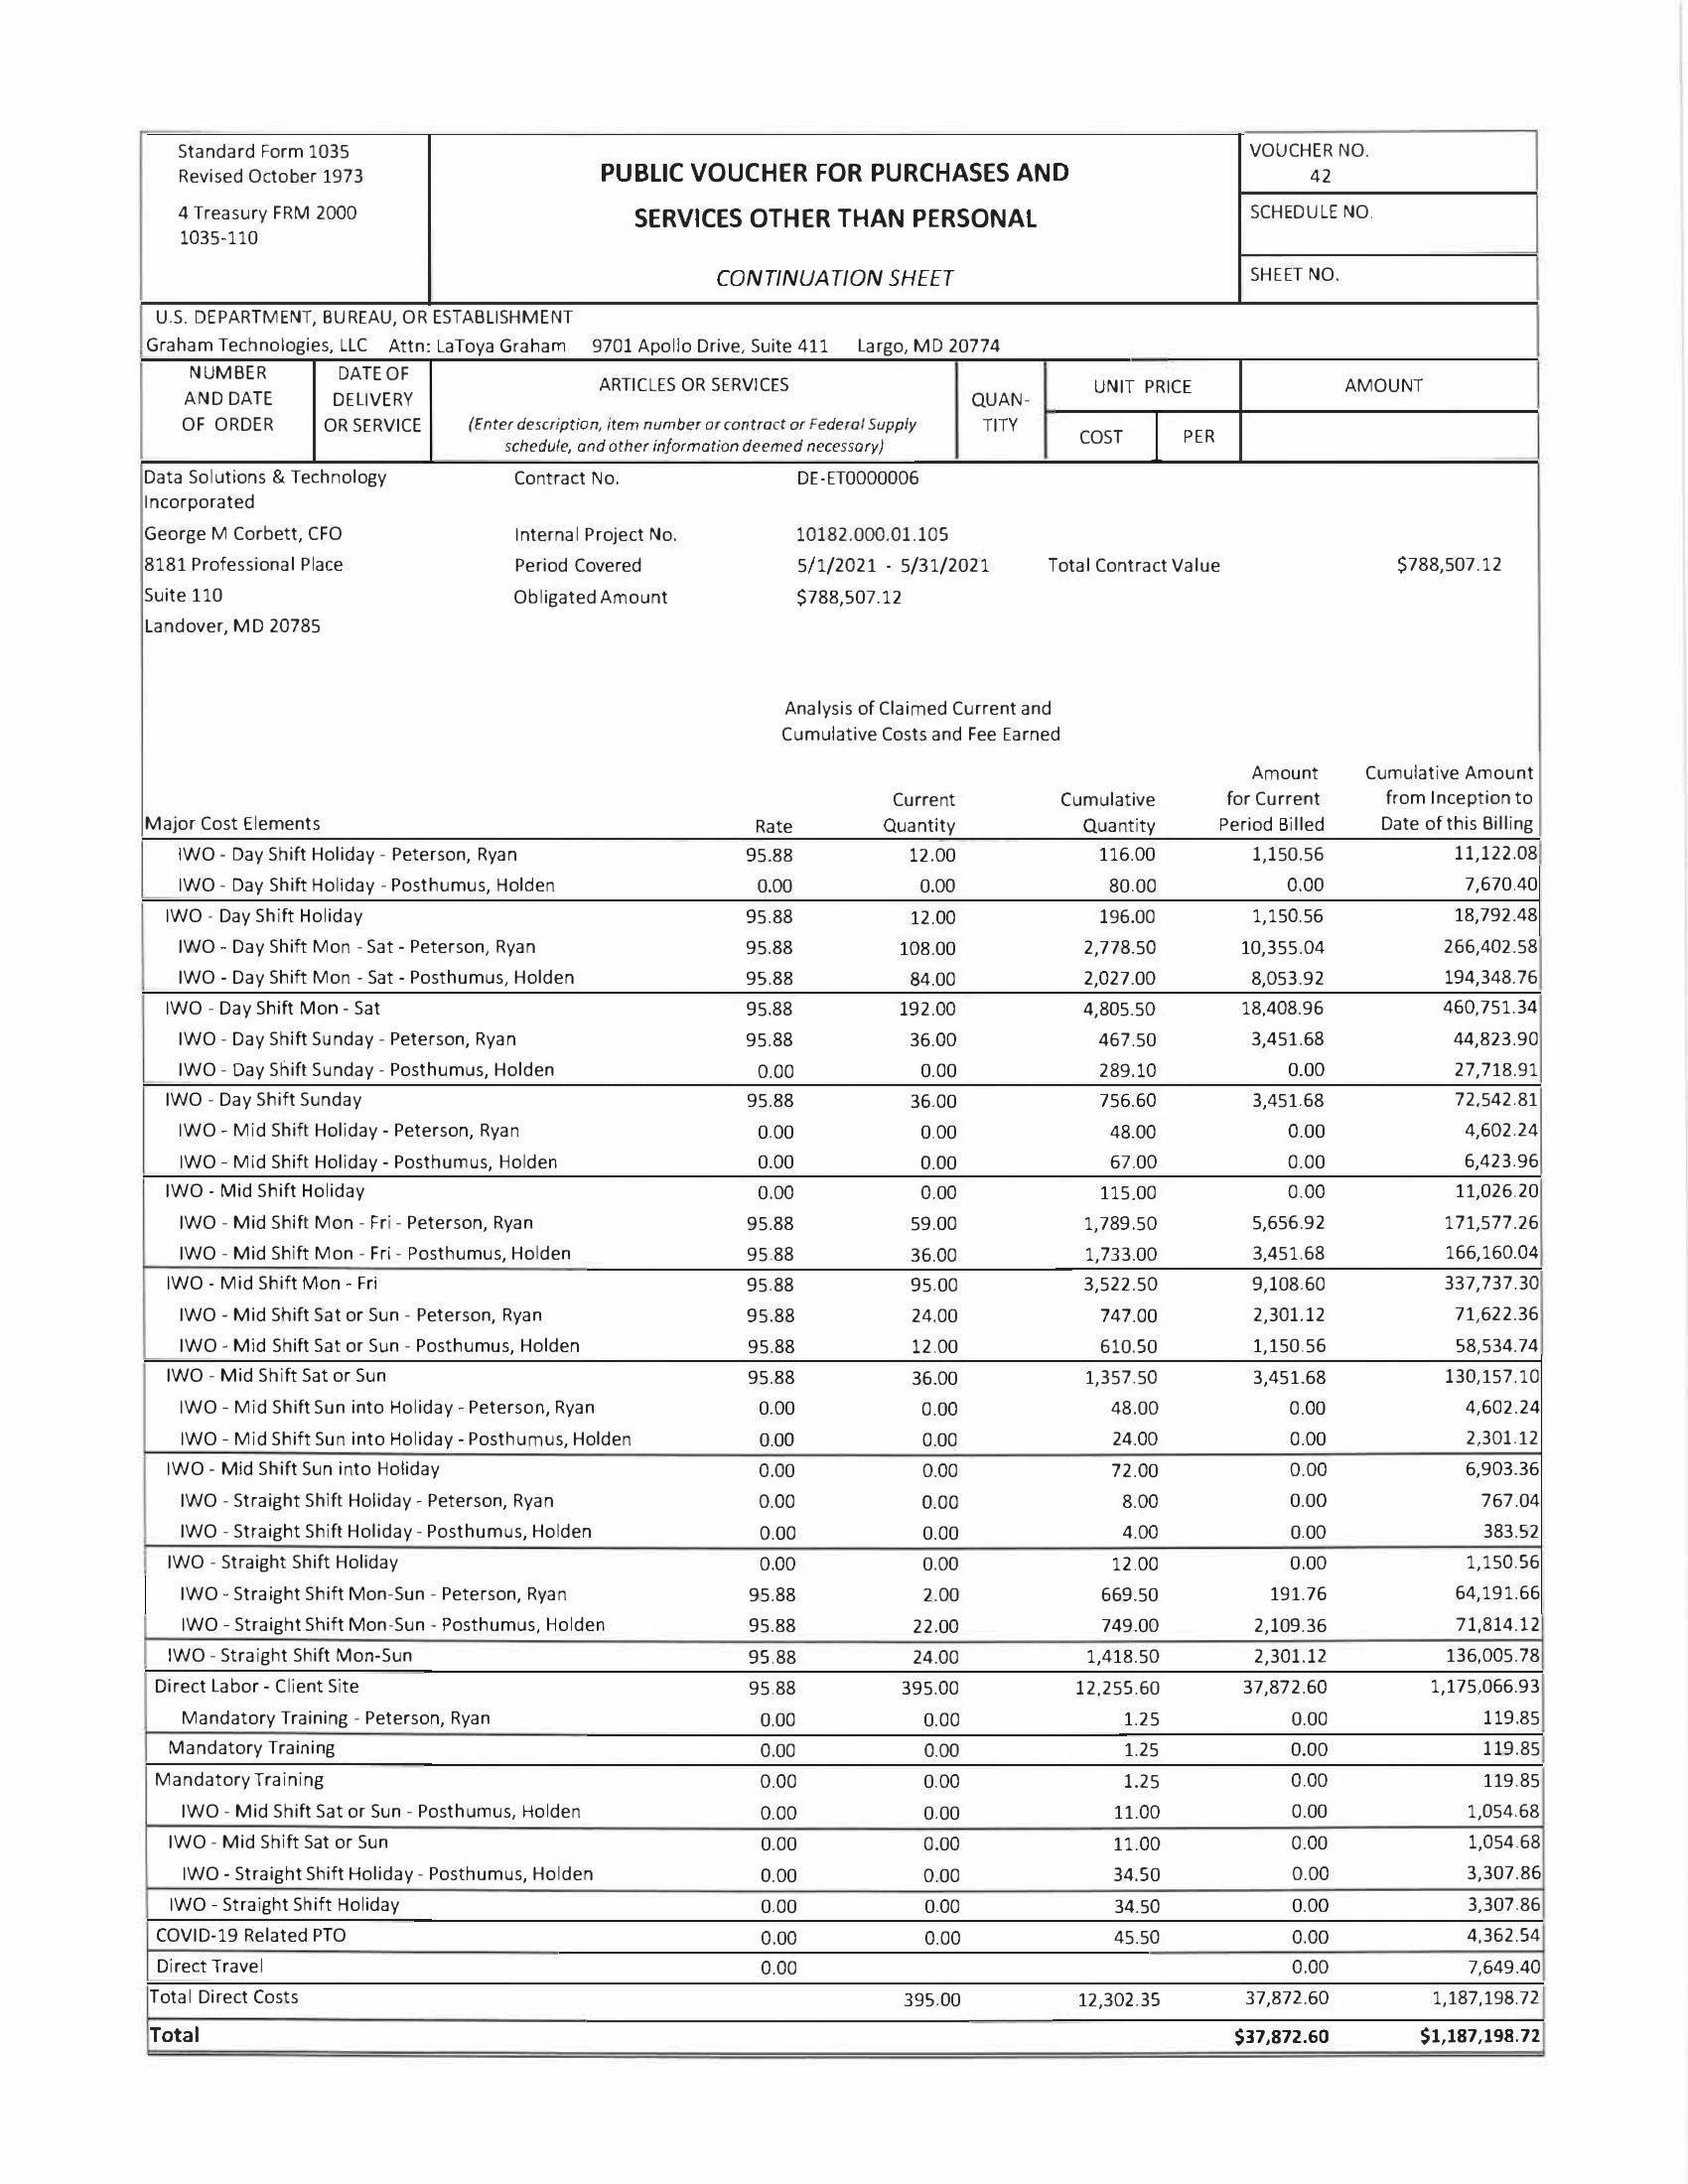table: (129, 755, 1555, 2072)
